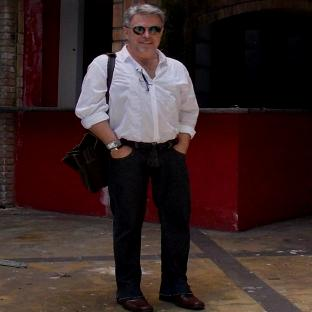Human: (76, 4, 205, 312)
